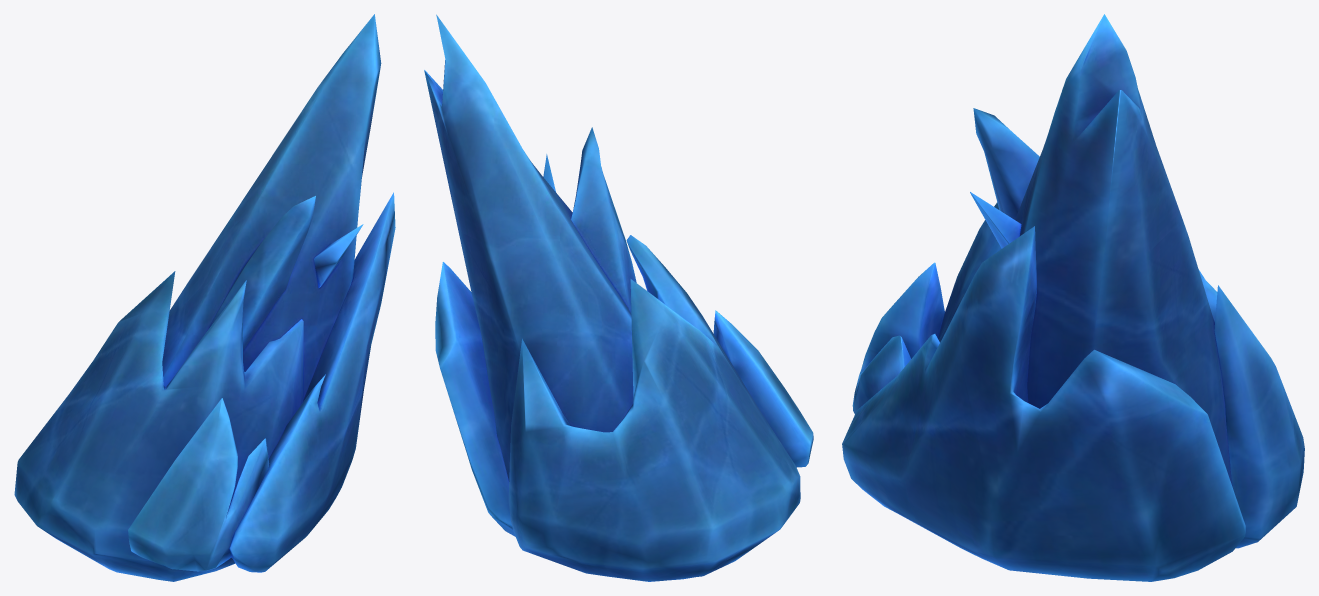
Rendered from glacia_shard_giant_a_far.glb.
The picture shows the model from 3 angles, left to right: view 1: azimuth 30°, elevation 25°; view 2: azimuth 150°, elevation 25°; view 3: azimuth 270°, elevation 25°; orthographic projection. The views are drawn at different scales.
Parts seen in each view (by area): view 1: SM_GLCA_STL_IceSplinter_01A; view 2: SM_GLCA_STL_IceSplinter_01A; view 3: SM_GLCA_STL_IceSplinter_01A.
Boxes of the visible parts, left/top/right/bottom form: SM_GLCA_STL_IceSplinter_01A: left=14, top=14, right=395, bottom=581; SM_GLCA_STL_IceSplinter_01A: left=424, top=14, right=813, bottom=581; SM_GLCA_STL_IceSplinter_01A: left=842, top=14, right=1304, bottom=581.
Size of the model in its own units: 32.82 by 42.57 by 27.82.
1 material, 1 textured.
